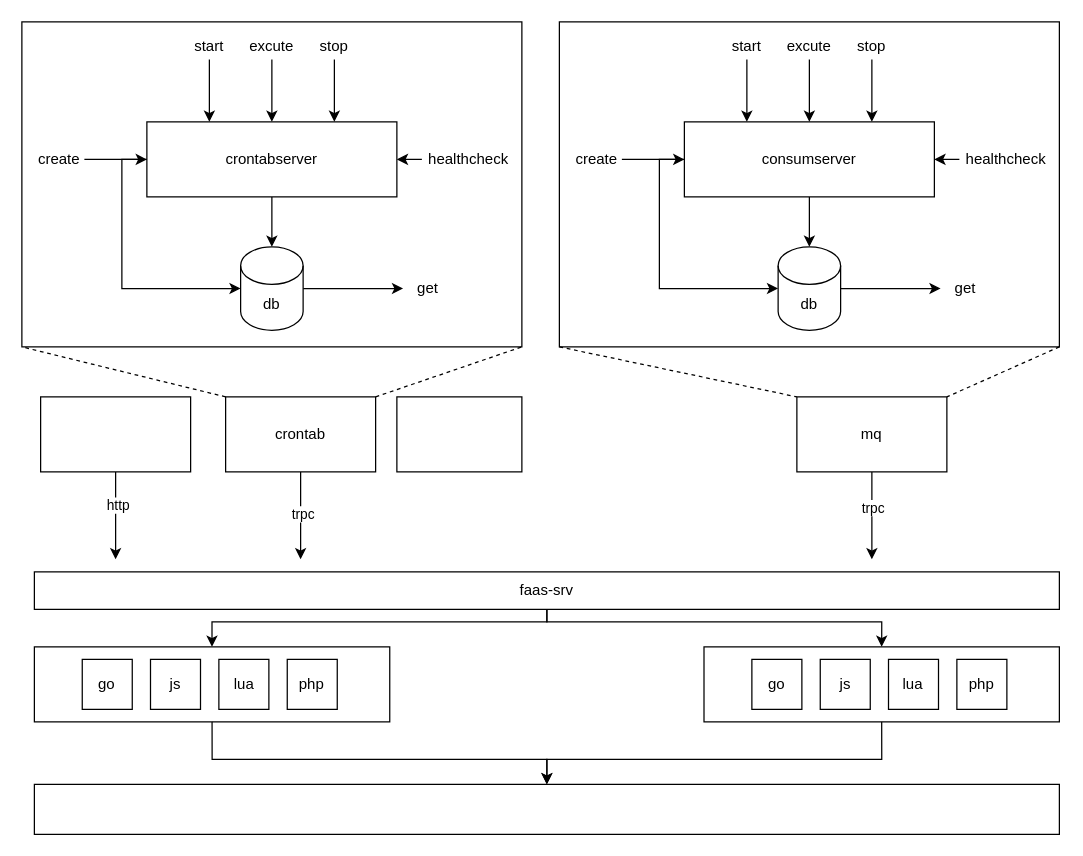
Some shapes in this 1083 by 856 pixel diagram are drawn without their labels. The box of each missing label's shape, as (x1, y1, x2, y2) in pixels:
api: (39, 396, 191, 472)
BaaS: (33, 783, 1059, 834)
webengine ....: (396, 396, 522, 472)
